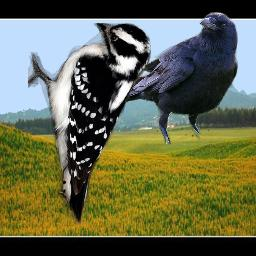Crow: (105, 12, 238, 146)
Woodpecker: (28, 23, 151, 229)
